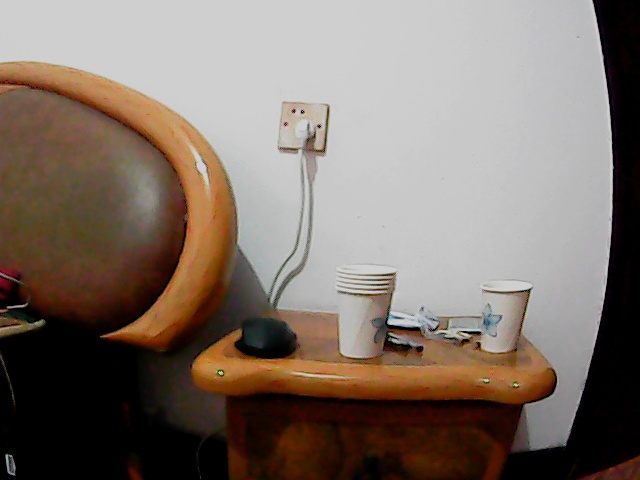cup: (336, 262, 398, 362)
mouse: (232, 314, 297, 361)
